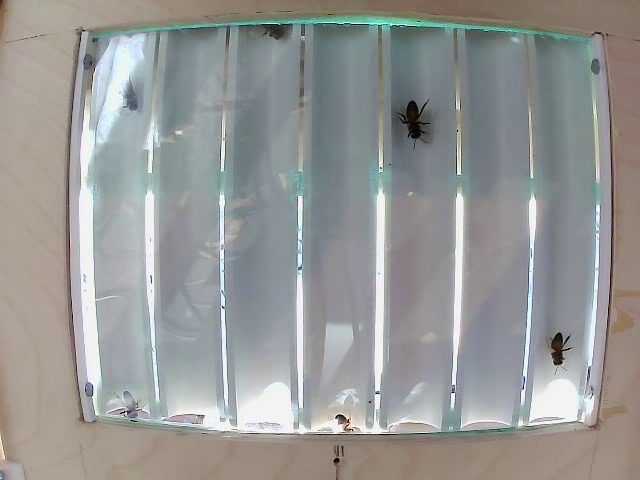bee: (111, 77, 145, 121), (399, 96, 429, 143), (545, 326, 565, 372)
